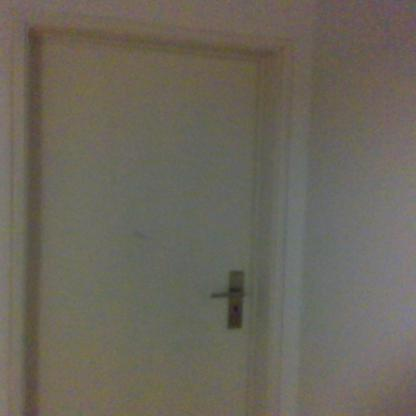door: (32, 38, 258, 416)
lever: (209, 290, 249, 300)
